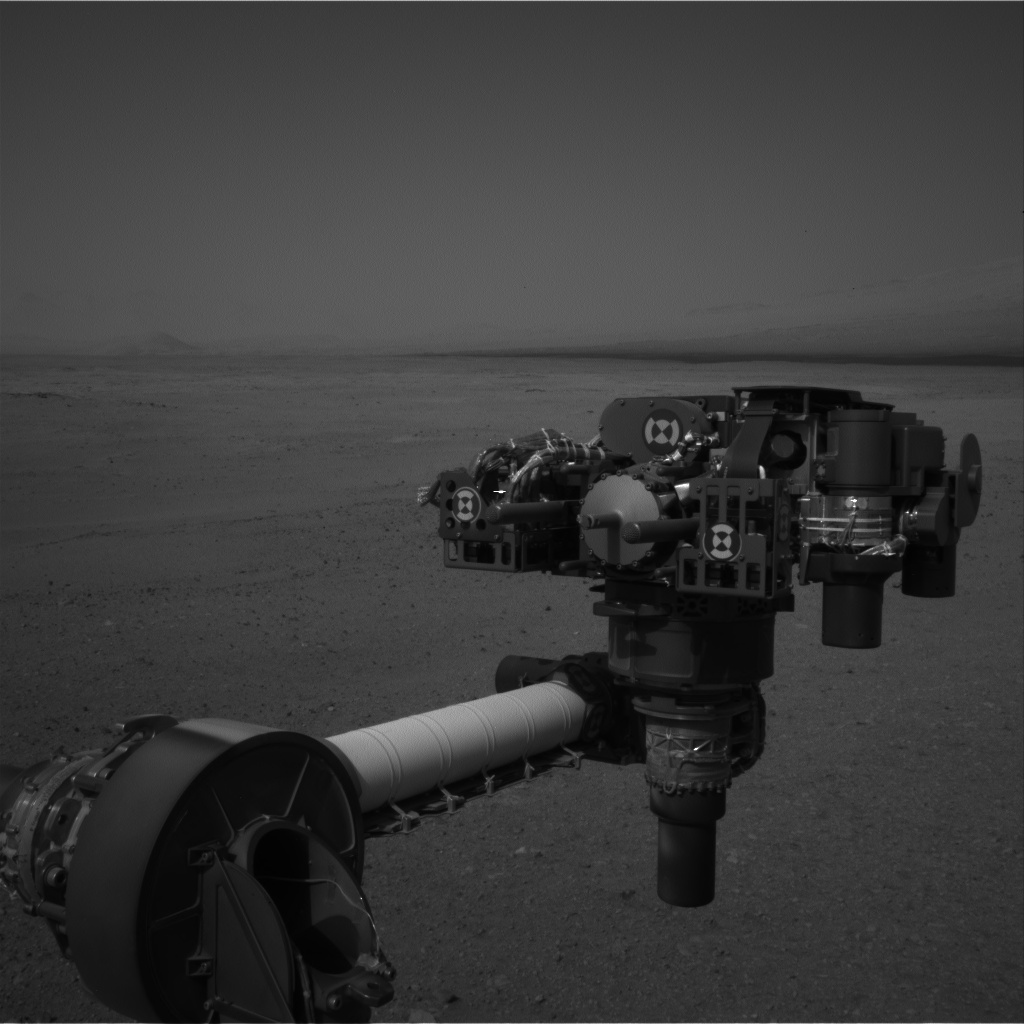soil: (392, 527, 1019, 1018), (10, 496, 573, 713), (19, 419, 412, 510), (21, 533, 35, 536)
